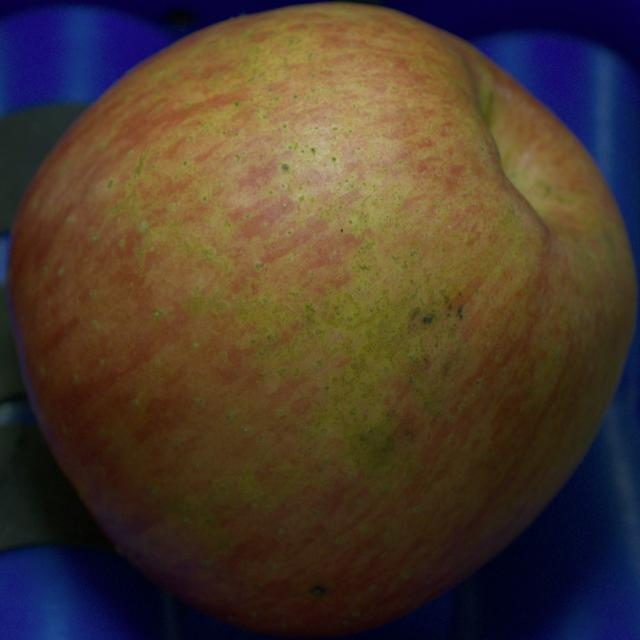apple: (8, 3, 636, 636)
pest: (311, 586, 325, 596), (422, 314, 434, 323), (457, 306, 463, 319)
